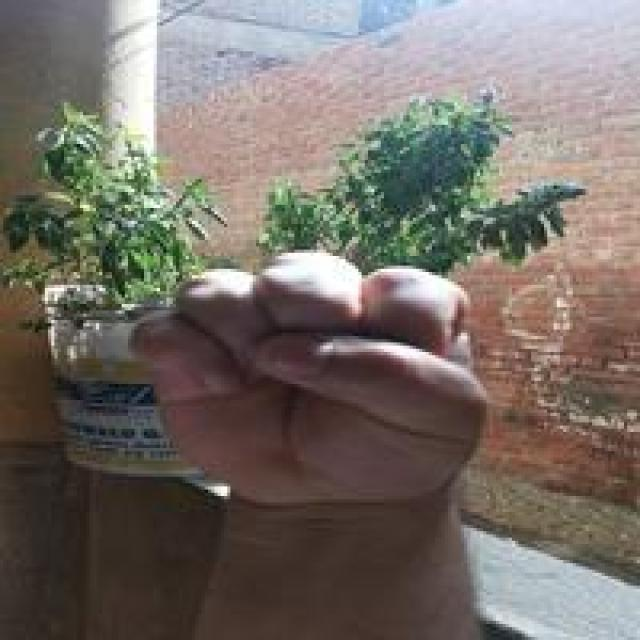E: (123, 250, 501, 518)
